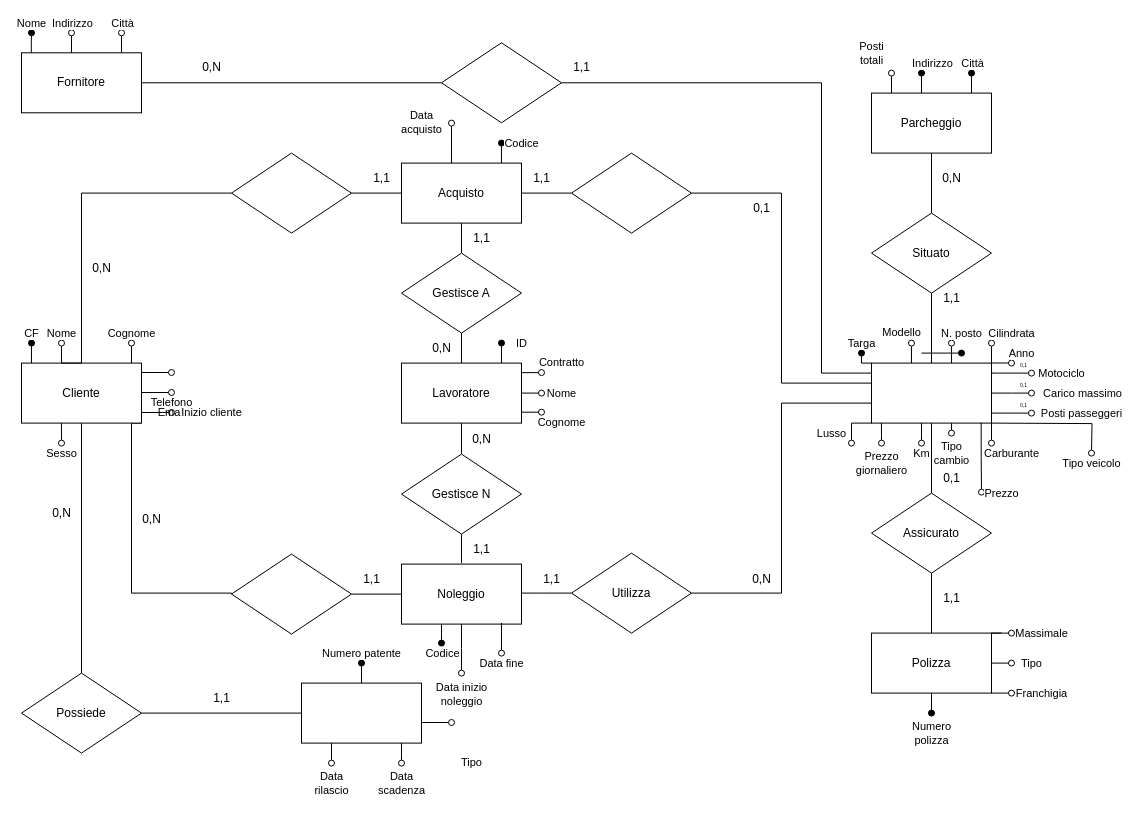
The diagram is 1140 pixels wide and 814 high, and some of its shapes have lost their labels. The shapes that lost their labels are listed below. From the top down, each one's box as (x1, y1, x2, y2) in pixels, then its label:
(440, 42, 562, 123): Fornisce
(230, 152, 352, 233): Programma
(570, 152, 692, 233): Compra
(870, 362, 992, 423): Autoveicolo
(230, 553, 352, 634): Prenota
(300, 682, 422, 743): Patente
